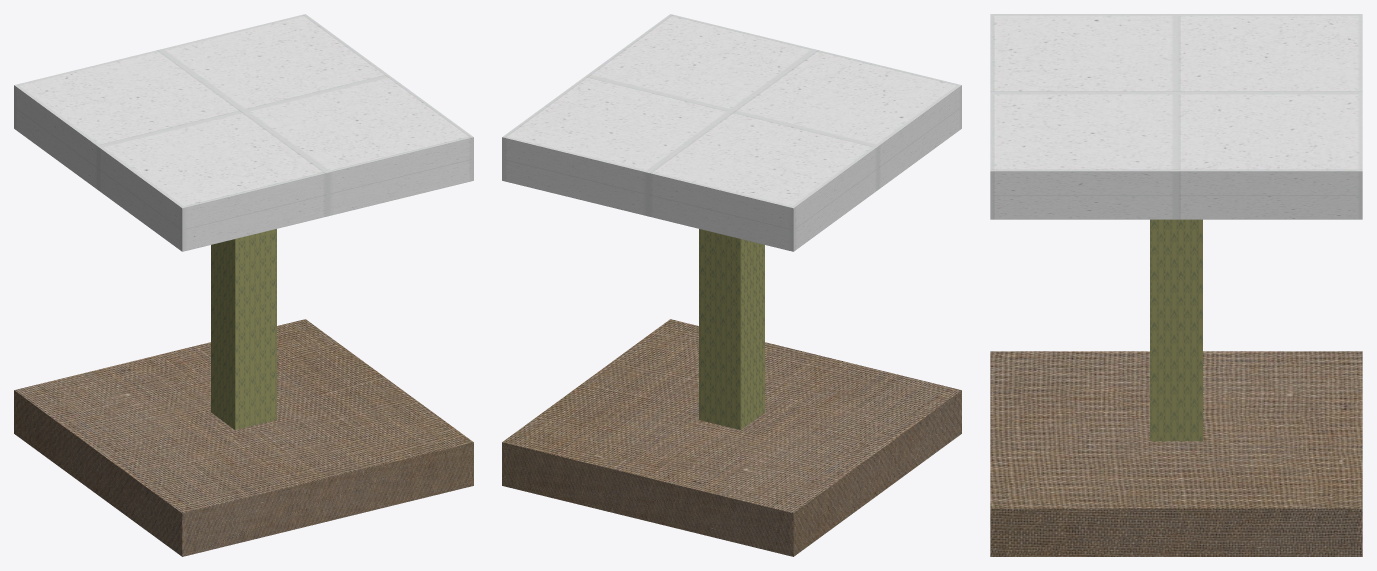
3 views of the same model, side by side, from view 1: azimuth 30°, elevation 25°; view 2: azimuth 150°, elevation 25°; view 3: azimuth 270°, elevation 25° (orthographic). The views are drawn at different scales.
Visible parts, largest first — view 1: Roof, Floor, Pillar; view 2: Roof, Floor, Pillar; view 3: Roof, Floor, Pillar.
Part boxes in pixels (box(x1,y1,x2,y2)): Roof: box(14, 14, 473, 251); Floor: box(14, 319, 473, 556); Pillar: box(211, 229, 276, 429); Roof: box(502, 14, 961, 251); Floor: box(502, 319, 961, 556); Pillar: box(699, 229, 764, 429); Roof: box(990, 14, 1362, 219); Floor: box(990, 351, 1362, 556); Pillar: box(1150, 219, 1202, 441).
Bounding box in the file's own units: 7 × 8 × 7.
Materials: 3 (3 with a texture image).
